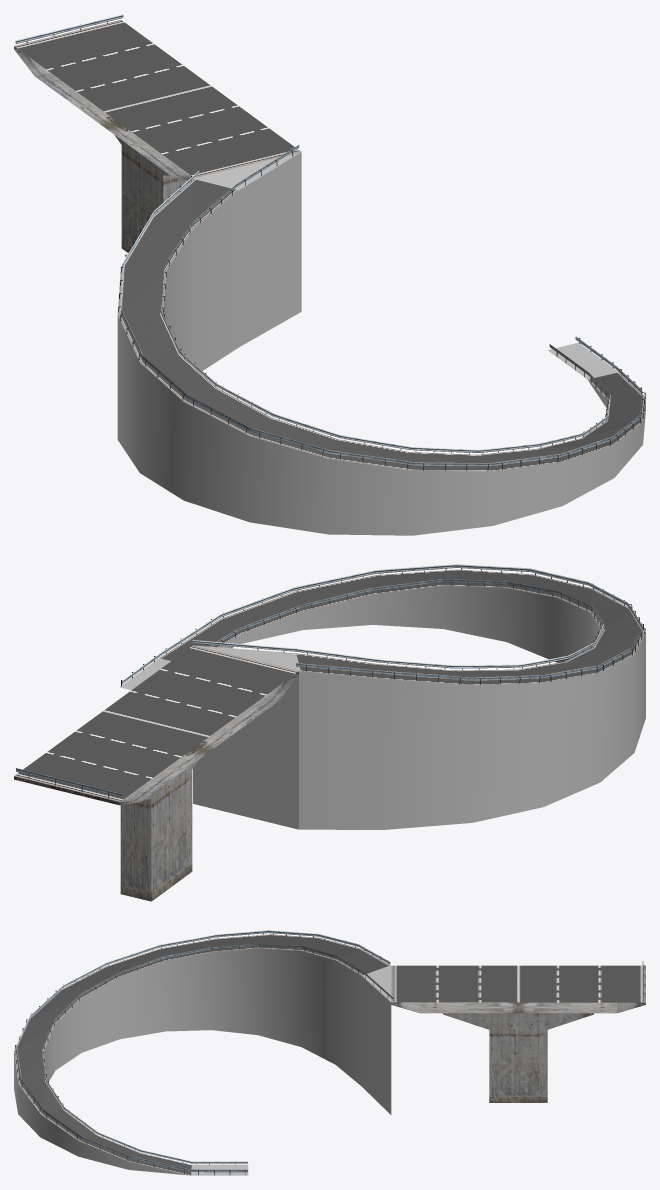
Rendered from 6 line highway onramp.FBX.
3 views of the same model, one above another, from view 1: azimuth 30°, elevation 25°; view 2: azimuth 150°, elevation 25°; view 3: azimuth 270°, elevation 25° (orthographic). The views are drawn at different scales.
Parts seen in each view (by area): view 1: Object004; view 2: Object004; view 3: Object004.
Boxes of the visible parts, x1=… form: Object004: x1=14, y1=14, x2=645, y2=535; Object004: x1=14, y1=564, x2=645, y2=901; Object004: x1=14, y1=930, x2=645, y2=1175.
Bounding box in the file's own units: 51.88 × 17.99 × 87.04.
